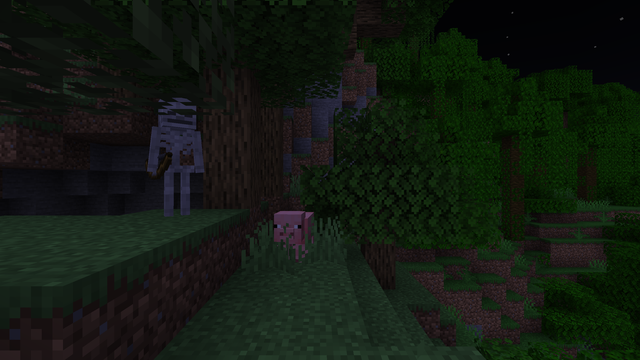cochons: (271, 211, 317, 262)
squelettes: (148, 126, 201, 217)
